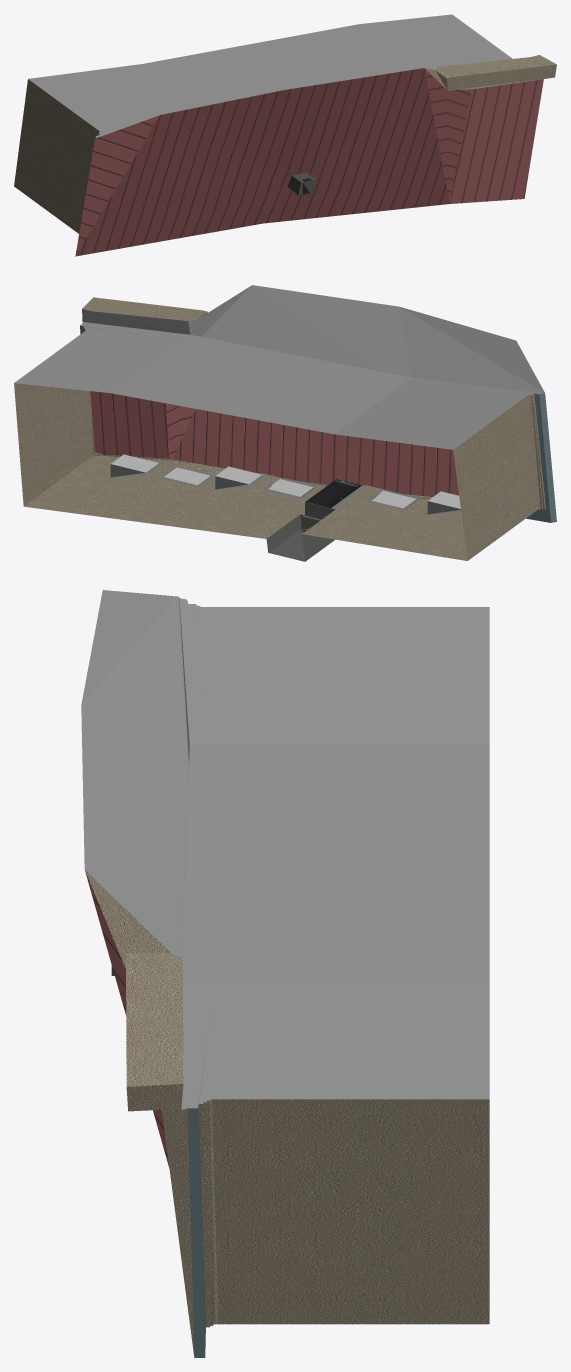
The model's file is Lai_50_2-origo.obj.
The picture shows the model from 3 angles, top to bottom: view 1: azimuth 30°, elevation 25°; view 2: azimuth 150°, elevation 25°; view 3: azimuth 270°, elevation 25°; orthographic projection. The views are drawn at different scales.
Visible parts, largest first — view 1: Lai_50_2; view 2: Lai_50_2; view 3: Lai_50_2.
Boxes of the visible parts, left/top/right/bottom form: Lai_50_2: left=14, top=14, right=556, bottom=256; Lai_50_2: left=14, top=285, right=556, bottom=561; Lai_50_2: left=81, top=590, right=489, bottom=1357.
Bounding box in the file's own units: 18.69 × 7.5 × 7.11.
